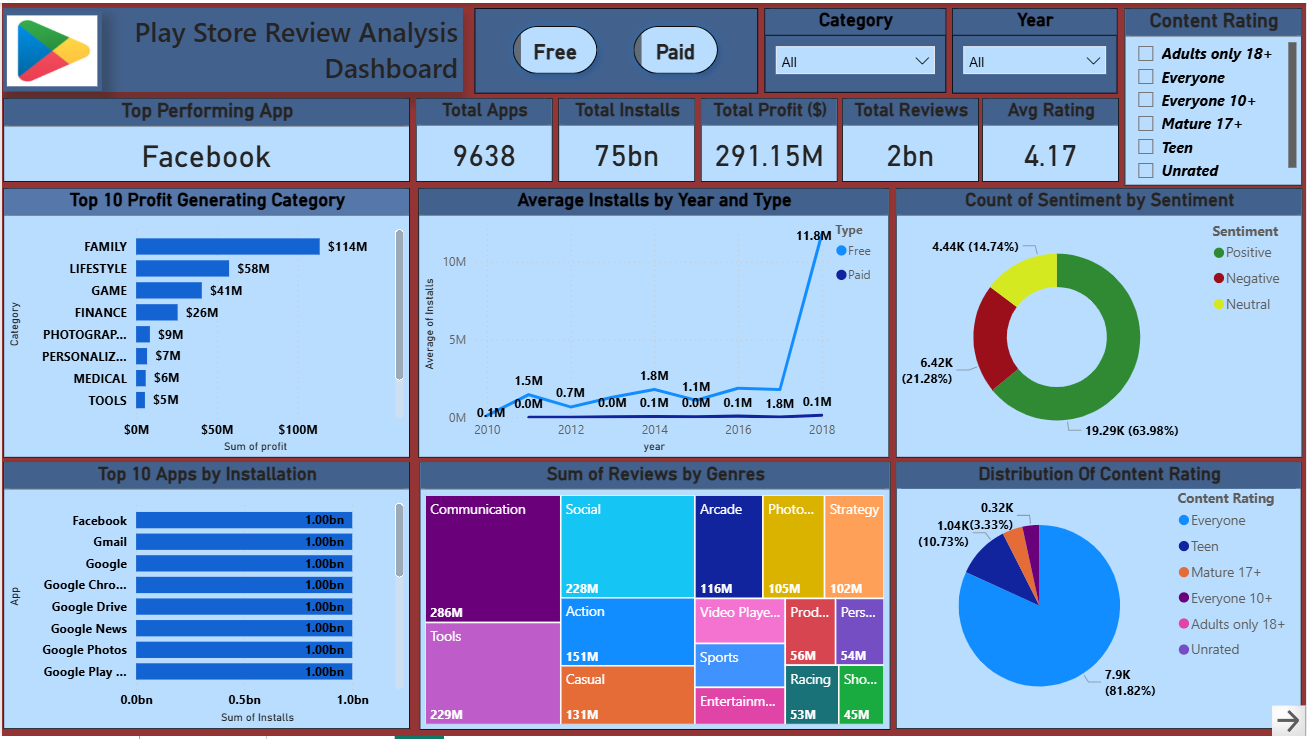

What the dashboard file says about the page in this screenshot:
{"tool":"powerbi","page":{"name":"Dashbord 1","canvas":[1280,720],"ordinal":0},"visuals":[{"type":"pieChart","title":"Distribution Of Content Rating","fields":{"Category":["Playstore_data.Content Rating"],"Y":["CountNonNull(Playstore_data.Content Rating)"]},"box":[877.3,450.3,398.8,262.6],"z":0},{"type":"textbox","box":[1.2,5,451.5,82.2],"z":1000},{"type":"card","title":"Total Apps","fields":{"Values":["Playstore_data.total_apps"]},"box":[406,93,135,82.3],"z":2000},{"type":"card","title":"Total Profit ($)","fields":{"Values":["Playstore_data.Total_profit"]},"box":[684,93,134.5,82.3],"z":3000},{"type":"image","box":[0,6.9,98.8,79.6],"z":4000},{"type":"card","title":"Total Installs","fields":{"Values":["Playstore_data.Total_installs"]},"box":[545,93,134.5,82.3],"z":5000},{"type":"card","title":"Total Reviews","fields":{"Values":["Playstore_data.Total_reviews"]},"box":[823,93,134.5,82.3],"z":6000},{"type":"slicer","title":"Year","fields":{"Values":["Playstore_data.year"]},"box":[933,5,162,83.7],"z":7000},{"type":"card","title":"Top Performing App","fields":{"Values":["Playstore_data.Top Performing App"]},"box":[1,93.3,400,82.3],"z":8000},{"type":"slicer","title":"Content Rating","fields":{"Values":["Playstore_data.Content Rating"]},"box":[1101.8,4.9,174.2,174],"z":9000},{"type":"barChart","title":"Top 10 Profit Generating Category","fields":{"Y":["Sum(Playstore_data.profit)"],"Category":["Playstore_data.Category"]},"box":[1.4,181.1,399.3,264.8],"z":10000},{"type":"advancedSlicerVisual","fields":{"Values":["Playstore_data.Type"]},"box":[463.8,5.5,278.6,83.7],"z":11000},{"type":"treemap","fields":{"Values":["Sum(Playstore_data.Reviews)"],"Details":["Playstore_data.Genres"]},"box":[408.6,450.3,462.6,262.6],"z":12000},{"type":"donutChart","fields":{"Category":["User_review_data.Sentiment"],"Y":["CountNonNull(User_review_data.Sentiment)"]},"box":[876.8,181.1,399,264.8],"z":13000},{"type":"lineChart","title":"Average Installs by Year and Type","fields":{"Y":["Avg(Playstore_data.Installs)"],"Series":["Playstore_data.Type"],"Category":["Playstore_data.year"]},"box":[408.6,181.6,462.6,263.8],"z":14000},{"type":"slicer","title":"Category","fields":{"Values":["Playstore_data.Category"]},"box":[749,5.5,178,83],"z":15000},{"type":"barChart","title":"Top 10 Apps by Installation","fields":{"Y":["Sum(Playstore_data.Installs)"],"Category":["Playstore_data.App"]},"box":[1.4,450.1,399.3,262.1],"z":16000},{"type":"card","title":"Avg Rating","fields":{"Values":["Avg(Playstore_data.Rating)"]},"box":[962,93,134.5,82],"z":17000},{"type":"actionButton","title":"Next Page","box":[1246.6,689.6,33.1,30.7],"z":18000}]}

Visuals, with their boxes in screenshot pixels (x1, y1, x2, y2), scaled from the page's 1280x720 canvas onto the 1307x739 screenshot:
"Distribution Of Content Rating" pieChart: {"left": 896, "top": 462, "right": 1303, "bottom": 732}
textbox: {"left": 1, "top": 5, "right": 462, "bottom": 90}
"Total Apps" card: {"left": 415, "top": 95, "right": 552, "bottom": 180}
"Total Profit ($)" card: {"left": 698, "top": 95, "right": 836, "bottom": 180}
image: {"left": 0, "top": 7, "right": 101, "bottom": 89}
"Total Installs" card: {"left": 556, "top": 95, "right": 694, "bottom": 180}
"Total Reviews" card: {"left": 840, "top": 95, "right": 978, "bottom": 180}
"Year" slicer: {"left": 953, "top": 5, "right": 1118, "bottom": 91}
"Top Performing App" card: {"left": 1, "top": 96, "right": 409, "bottom": 180}
"Content Rating" slicer: {"left": 1125, "top": 5, "right": 1303, "bottom": 184}
"Top 10 Profit Generating Category" barChart: {"left": 1, "top": 186, "right": 409, "bottom": 458}
advancedSlicerVisual - Playstore_data.Type: {"left": 474, "top": 6, "right": 758, "bottom": 92}
treemap - Sum(Playstore_data.Reviews) x Playstore_data.Genres: {"left": 417, "top": 462, "right": 890, "bottom": 732}
donutChart - User_review_data.Sentiment x CountNonNull(User_review_data.Sentiment): {"left": 895, "top": 186, "right": 1303, "bottom": 458}
"Average Installs by Year and Type" lineChart: {"left": 417, "top": 186, "right": 890, "bottom": 457}
"Category" slicer: {"left": 765, "top": 6, "right": 947, "bottom": 91}
"Top 10 Apps by Installation" barChart: {"left": 1, "top": 462, "right": 409, "bottom": 731}
"Avg Rating" card: {"left": 982, "top": 95, "right": 1120, "bottom": 180}
"Next Page" actionButton: {"left": 1273, "top": 708, "right": 1306, "bottom": 738}
